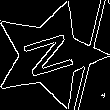N_E: (17, 28, 81, 82)
